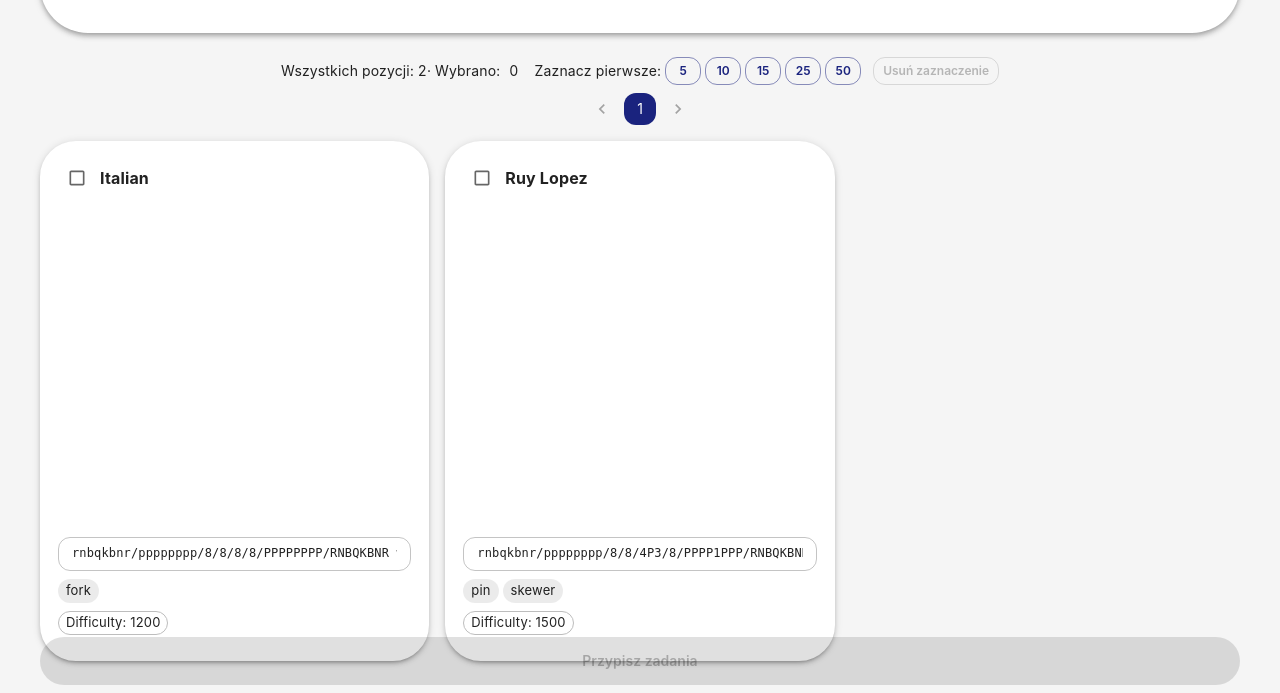
PositionsView feature › shows empty group lists inside assign modal on fetch error
The width and height of the screenshot is (1280, 693).
(page scrolled)
Expected: the text "Italian" is shown, x1=100 y1=168 x2=149 y2=188
Click the text "Italian" at [235, 401], box x1=40 y1=141 x2=429 y2=661
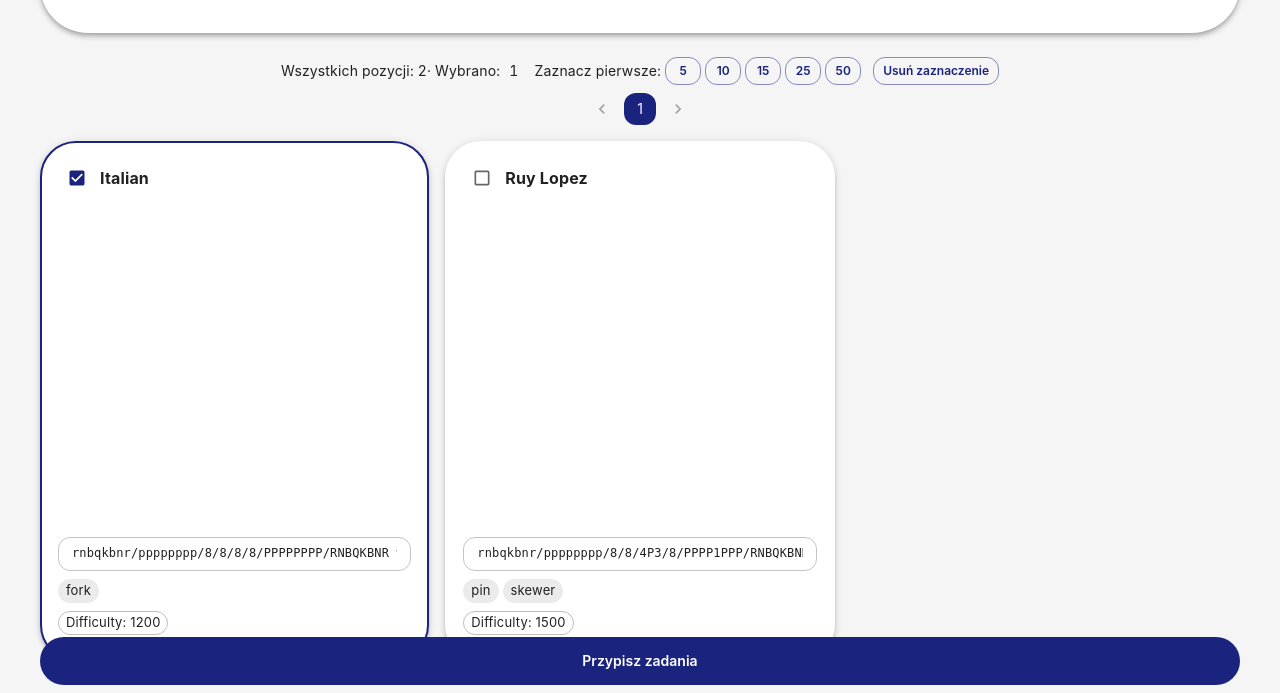
Now the text "Wszystkich pozycji: 2· Wybrano: 1" is shown, box x1=281 y1=61 x2=518 y2=81
Click the button "Przypisz zadania" at [640, 661], box x1=40 y1=636 x2=1240 y2=685
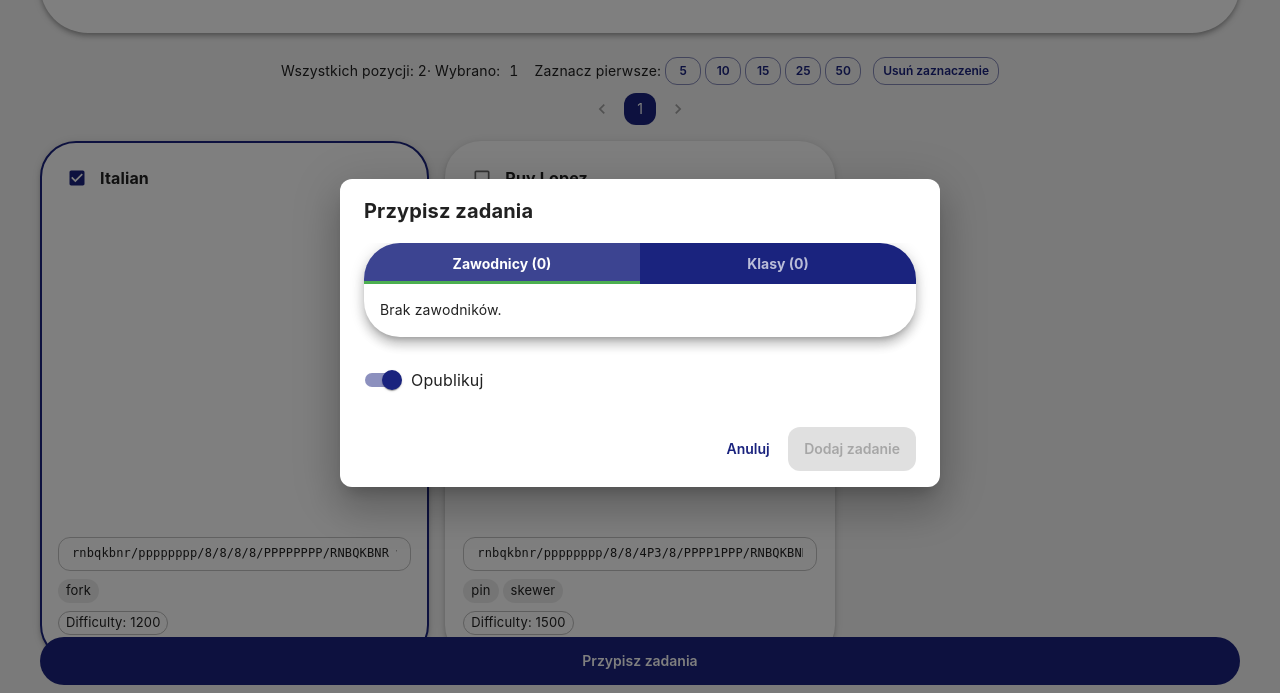
Now the dialog is shown, box x1=340 y1=179 x2=940 y2=487
Now the text "Brak zawodników." is shown, box x1=380 y1=302 x2=502 y2=318
